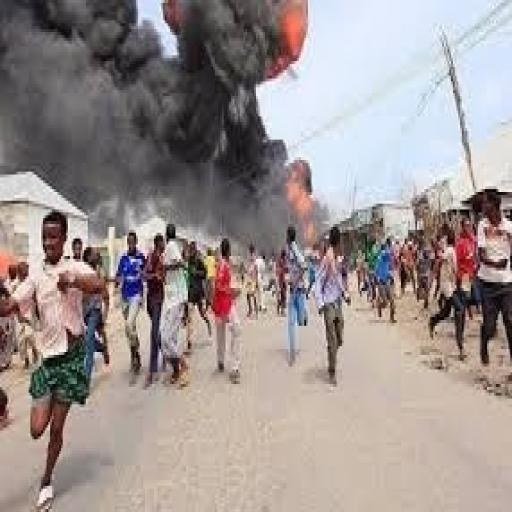running: (2, 207, 109, 509)
